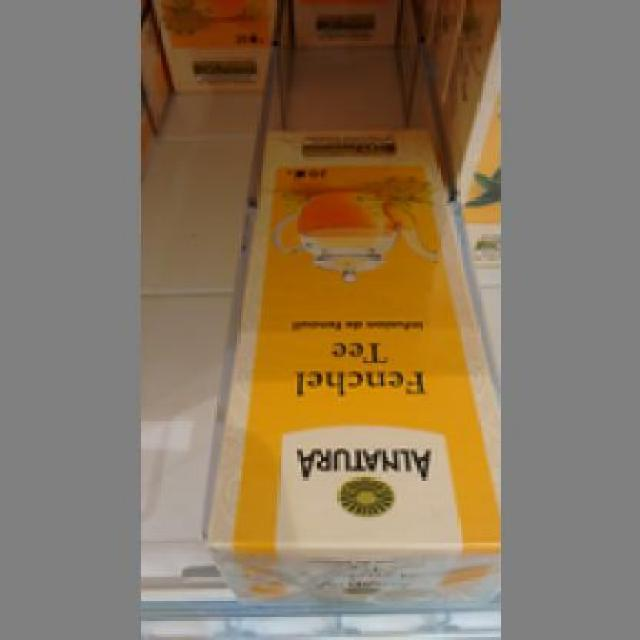Tea: (200, 122, 494, 608)
